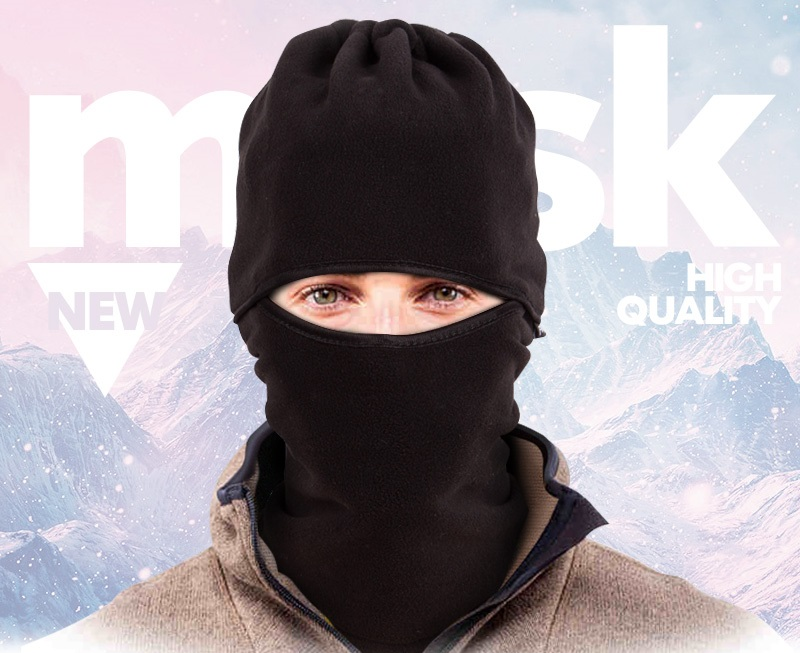face_mask: (265, 224, 511, 493)
